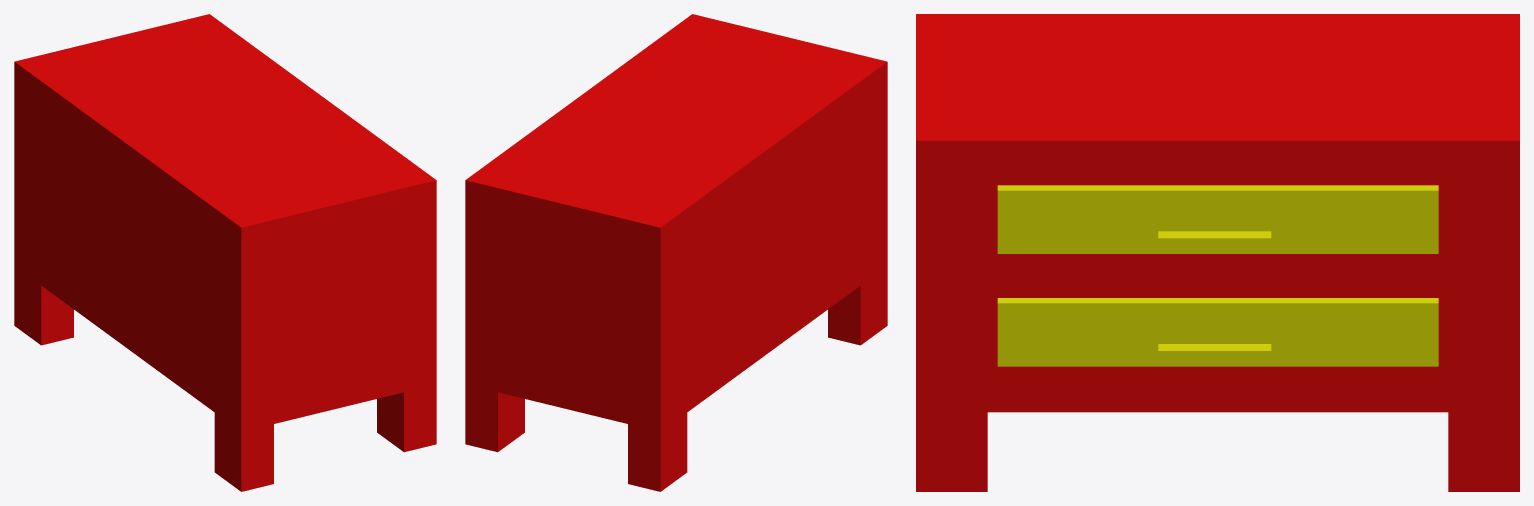
File: SmallCab.fbx
The picture shows the model from 3 angles, left to right: view 1: azimuth 30°, elevation 25°; view 2: azimuth 150°, elevation 25°; view 3: azimuth 270°, elevation 25°; orthographic projection. The views are drawn at different scales.
Parts seen in each view (by area): view 1: pCube244; view 2: pCube244; view 3: pCube244, pCube245, pCube246.
Boxes of the visible parts, x1,y1,x2,y2 form: pCube244: (14,14,436,491); pCube244: (465,14,887,491); pCube244: (916,14,1519,491); pCube245: (997,185,1438,253); pCube246: (997,298,1438,366).
Bounding box in the file's own units: 86.92 × 108 × 168.
